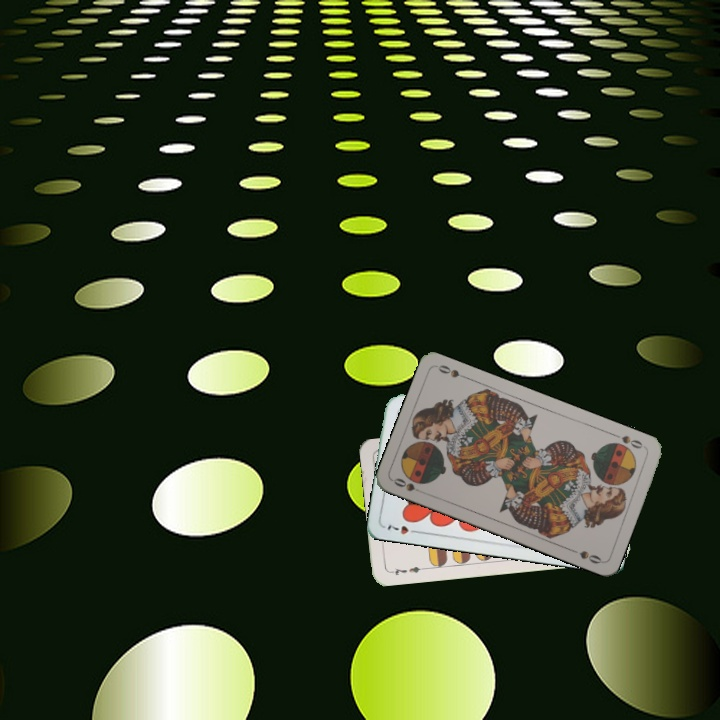E7: (386, 562, 427, 578)
H7: (383, 521, 422, 537)
SO: (389, 474, 428, 497), (609, 430, 648, 451)
